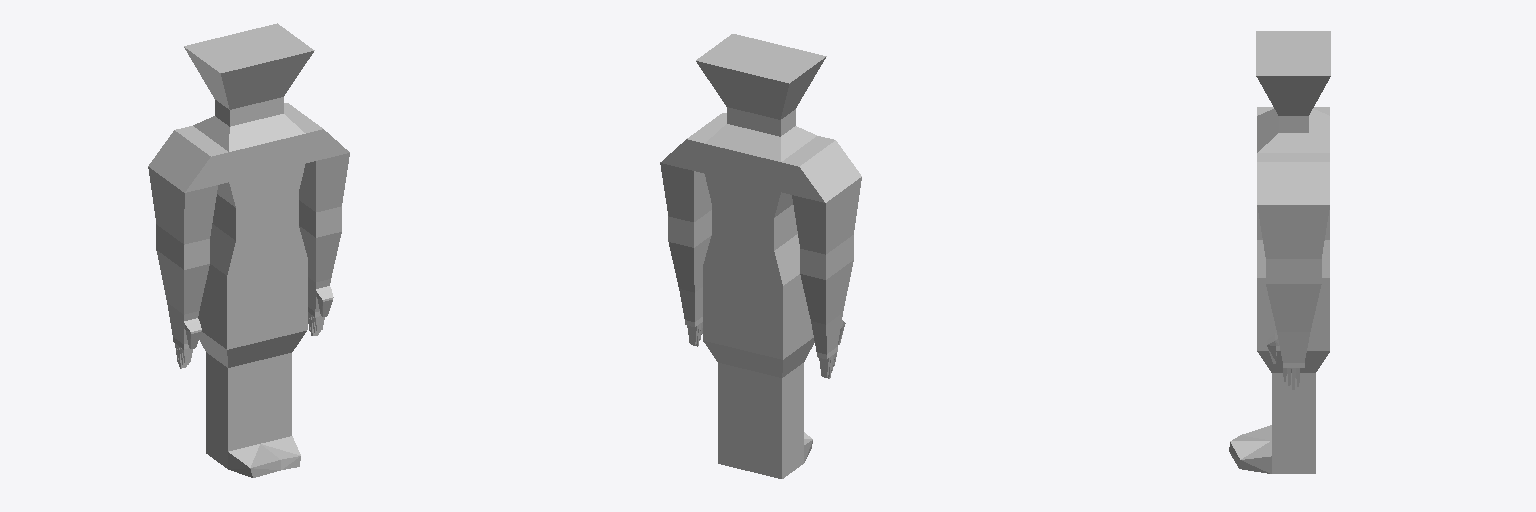
File: person.obj
3 renders of one model, left to right at view 1: azimuth 30°, elevation 25°; view 2: azimuth 150°, elevation 25°; view 3: azimuth 270°, elevation 25°, orthographic.
Parts seen in each view (by area): view 1: Cube; view 2: Cube; view 3: Cube.
Part boxes in pixels (bbox=[...]): Cube: bbox=[148, 23, 349, 477]; Cube: bbox=[660, 34, 861, 478]; Cube: bbox=[1229, 31, 1330, 473].
Size of the model in its own units: 5.24 by 12.24 by 2.79.